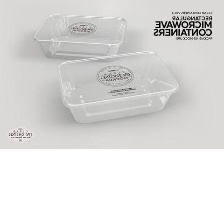plastic_box: (52, 45, 184, 128), (29, 8, 133, 66)
